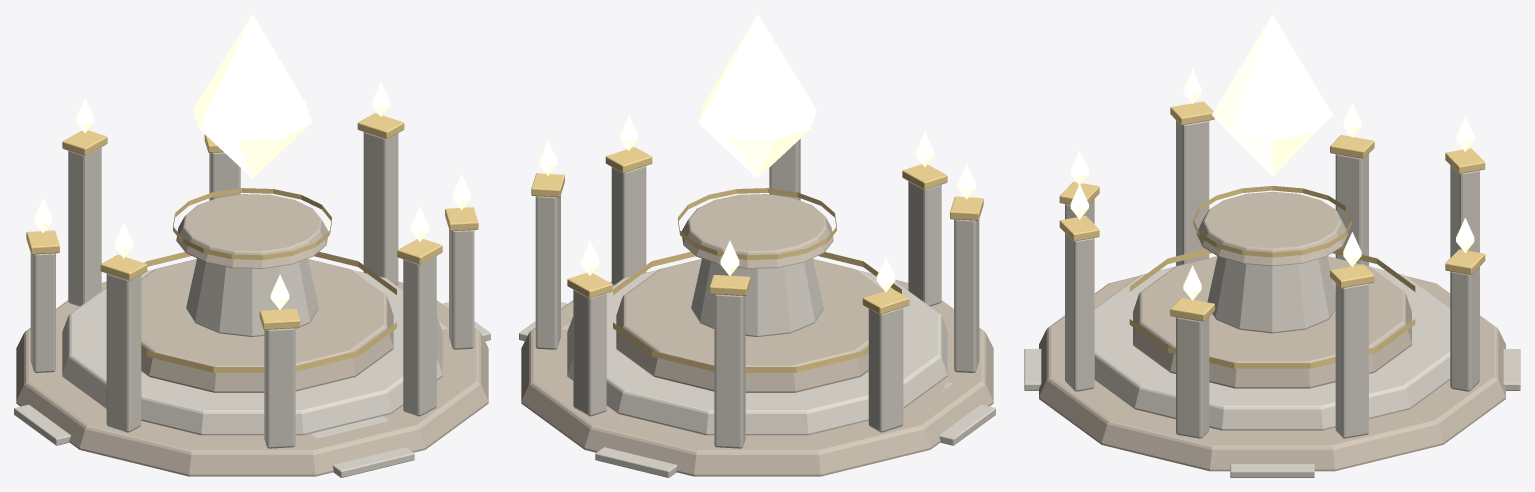
Rendered from ancient_dawn.glb.
The picture shows the model from 3 angles, left to right: view 1: azimuth 30°, elevation 25°; view 2: azimuth 150°, elevation 25°; view 3: azimuth 270°, elevation 25°; orthographic projection.
Visible parts, largest first — view 1: tier1, tier3, tier2, heart, bowl, pedestal, mono4, mono6, mono0, mono2, mono5, mono7 (+14 smaller); view 2: tier1, tier3, tier2, heart, bowl, pedestal, mono2, mono3, mono1, mono0, mono4, mono5 (+13 smaller); view 3: tier1, tier2, tier3, heart, bowl, pedestal, mono0, mono6, mono4, mono7, mono1, mono3 (+14 smaller).
Part boxes in pixels (bbox=[...]): tier1: bbox=[16, 281, 488, 476]; tier3: bbox=[141, 259, 393, 392]; tier2: bbox=[62, 269, 442, 435]; heart: bbox=[193, 14, 311, 178]; bowl: bbox=[176, 194, 328, 268]; pedestal: bbox=[186, 258, 318, 336]; mono4: bbox=[106, 273, 141, 432]; mono6: bbox=[403, 256, 436, 416]; mono0: bbox=[363, 132, 398, 285]; mono2: bbox=[68, 147, 101, 306]; mono5: bbox=[264, 328, 295, 448]; mono7: bbox=[449, 229, 474, 349]; tier1: bbox=[521, 279, 993, 476]; tier3: bbox=[616, 259, 884, 392]; tier2: bbox=[567, 269, 947, 435]; heart: bbox=[698, 14, 816, 178]; bowl: bbox=[681, 194, 833, 268]; pedestal: bbox=[691, 258, 823, 336]; mono2: bbox=[714, 294, 745, 448]; mono3: bbox=[868, 307, 903, 432]; mono1: bbox=[573, 290, 606, 416]; mono0: bbox=[535, 195, 560, 349]; mono4: bbox=[954, 219, 979, 372]; mono5: bbox=[908, 181, 941, 306]; tier1: bbox=[1039, 276, 1505, 471]; tier2: bbox=[1094, 266, 1450, 430]; tier3: bbox=[1133, 256, 1411, 388]; heart: bbox=[1212, 14, 1332, 176]; bowl: bbox=[1196, 191, 1348, 266]; pedestal: bbox=[1207, 256, 1335, 333]; mono0: bbox=[1335, 283, 1368, 438]; mono6: bbox=[1065, 233, 1094, 391]; mono4: bbox=[1176, 120, 1209, 265]; mono7: bbox=[1176, 317, 1209, 438]; mono1: bbox=[1450, 267, 1479, 391]; mono3: bbox=[1335, 154, 1368, 265].
Size of the model in its own units: 9.4 by 7.51 by 9.4.
